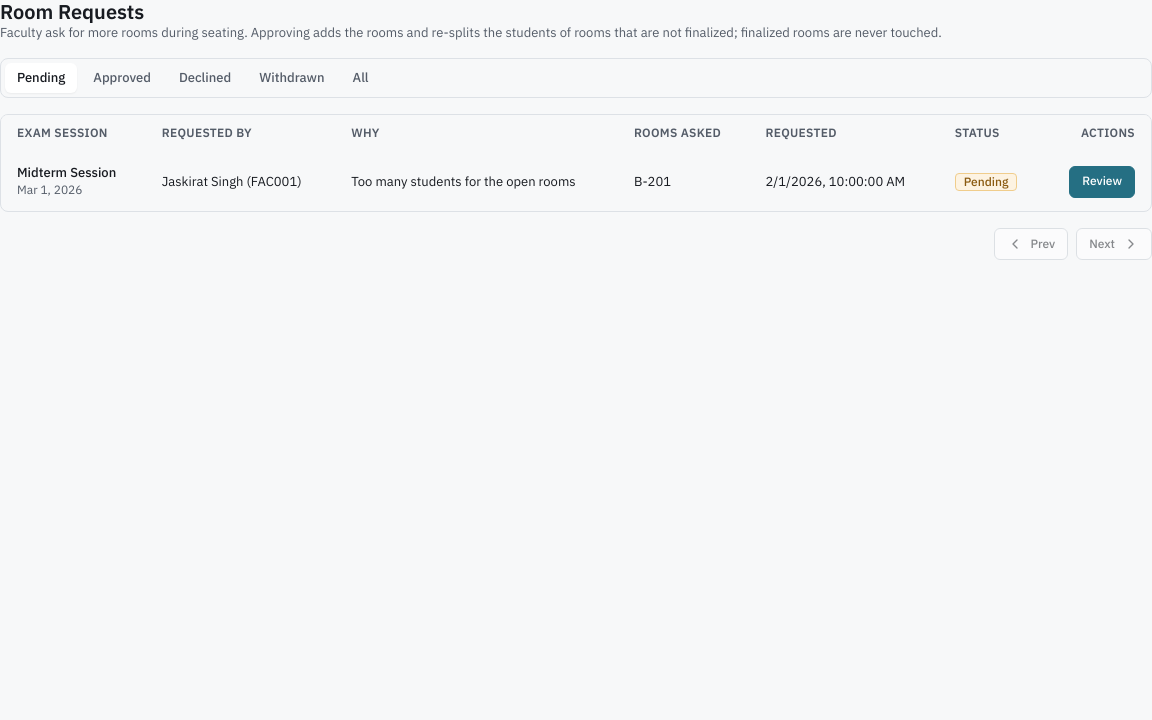
it: Admin: Room Requests queue › lists pending requests and opens the review with finalized rooms marked untouched and the others marked for re-split
This screenshot has width=1152, height=720.
Check: the text "Midterm Session" is shown, box [17, 164, 130, 182]
Click the button "Review".
click(1102, 182)  # box [1069, 166, 1135, 198]
(page scrolled)
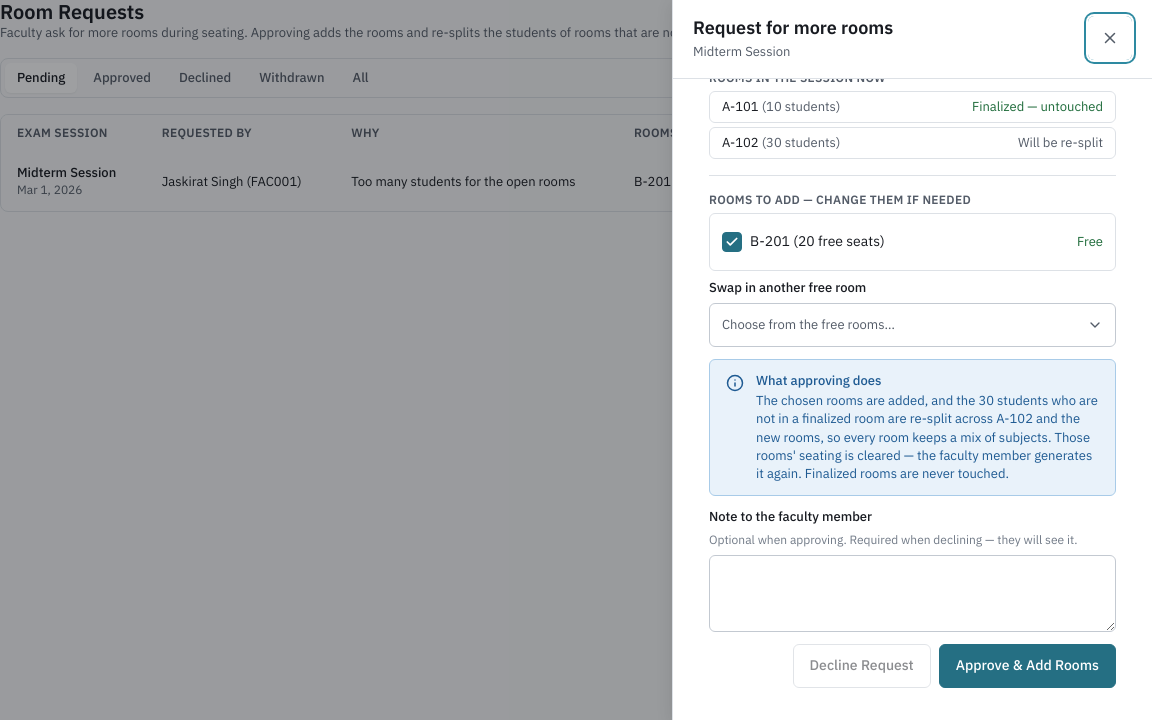
Check: the text "Finalized — untouched" is shown, box [972, 98, 1103, 116]
Check: the text "Will be re-split" is shown, box [1018, 134, 1103, 152]
Check: the text "the 30 students who are not in a finalized room are re-split" is shown, box [756, 392, 1099, 483]
